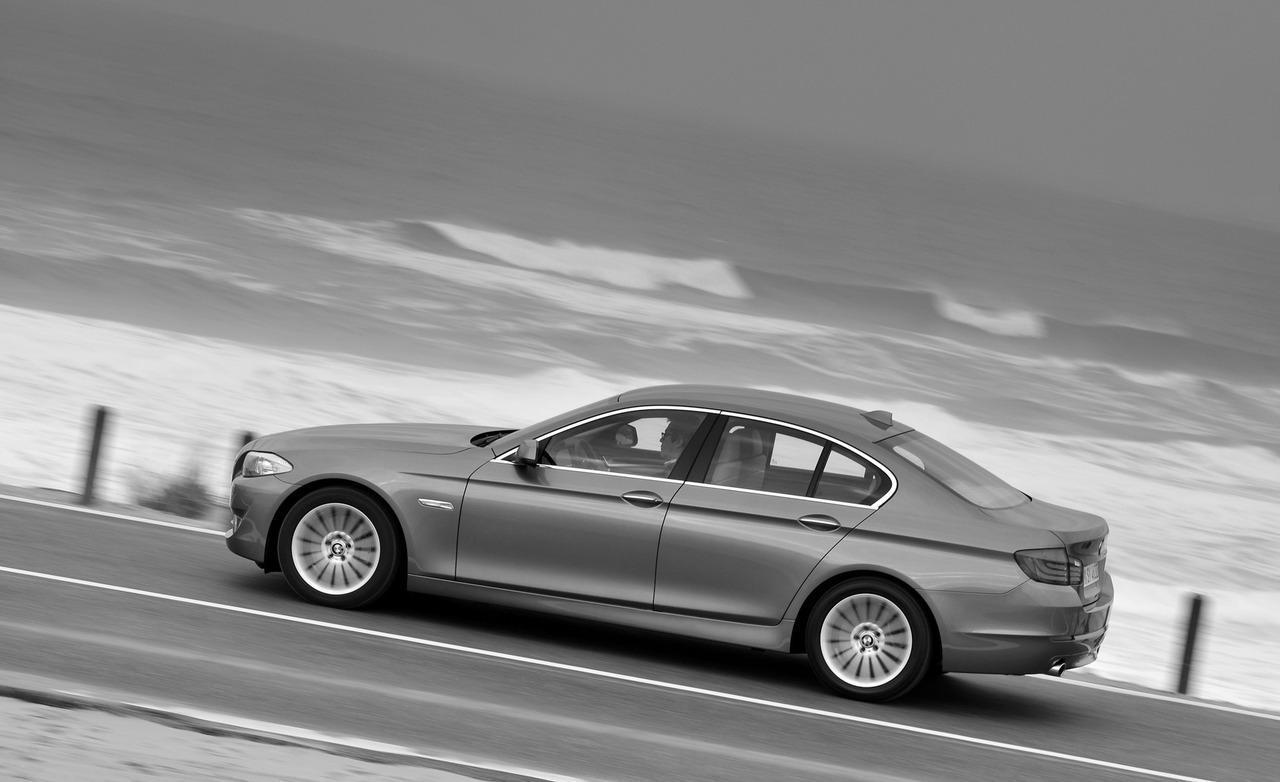car: (210, 382, 1134, 716)
